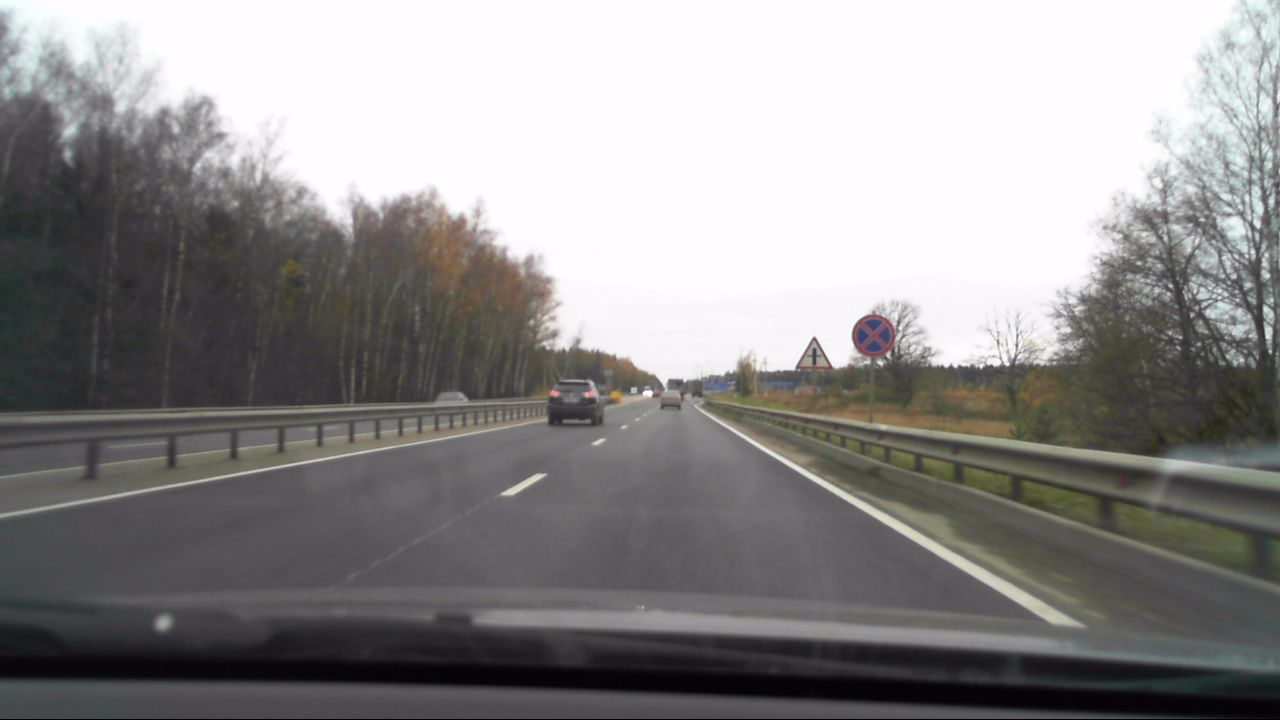No Parking: (853, 313, 895, 358)
